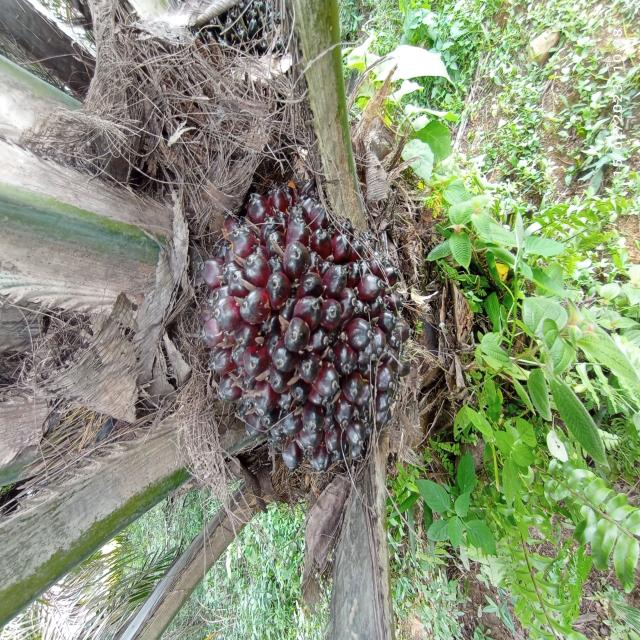fraksi 1: (187, 168, 425, 496)
